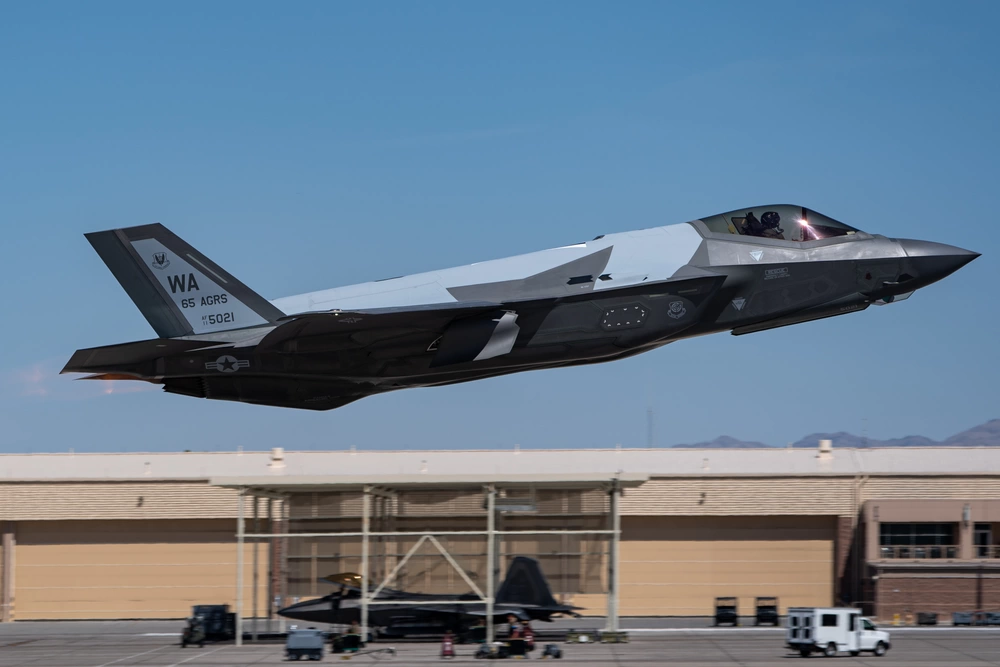F35: (60, 196, 986, 419)
